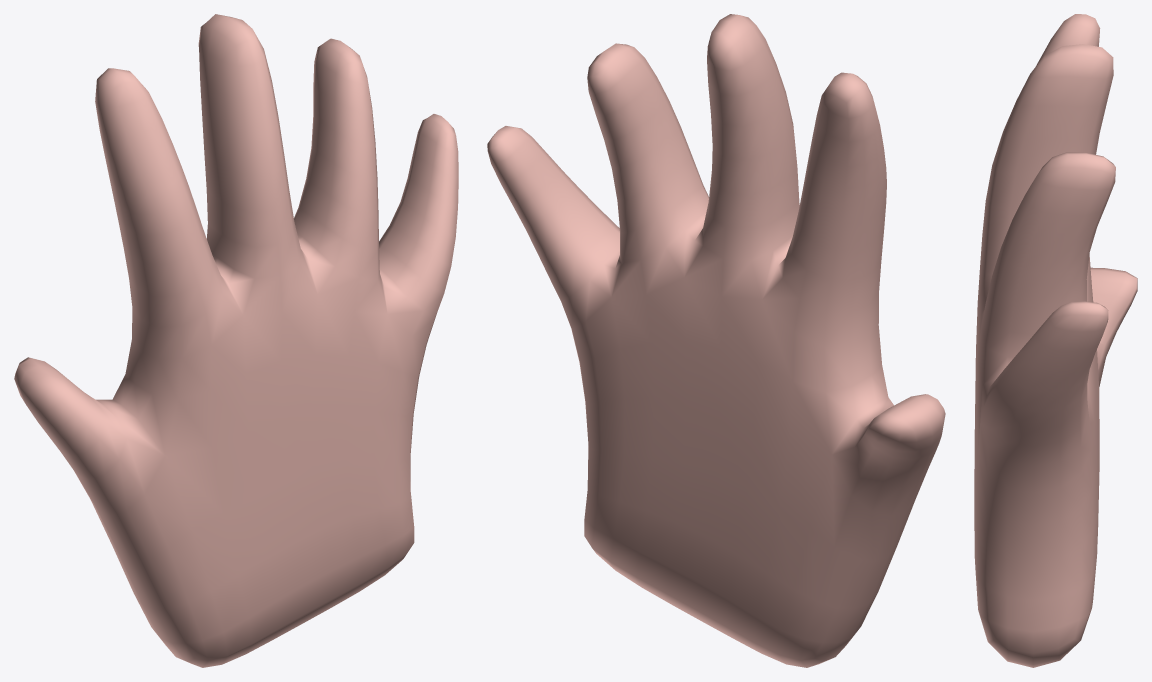
The model's file is hnd.fbx.
The picture shows the model from 3 angles, left to right: view 1: azimuth 30°, elevation 25°; view 2: azimuth 150°, elevation 25°; view 3: azimuth 270°, elevation 25°; orthographic projection. The views are drawn at different scales.
Visible parts, largest first — view 1: Cube; view 2: Cube; view 3: Cube.
Boxes of the visible parts, <box> form: Cube: <box>14,14,458,667</box>; Cube: <box>487,14,945,667</box>; Cube: <box>974,14,1137,667</box>.
Size of the model in its own units: 364 by 508 by 123.
